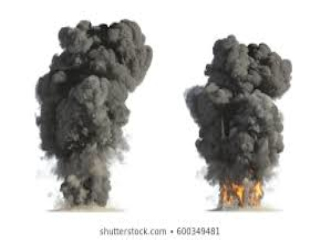fire: (213, 184, 268, 210)
smoke: (31, 21, 154, 211), (181, 33, 296, 184)
